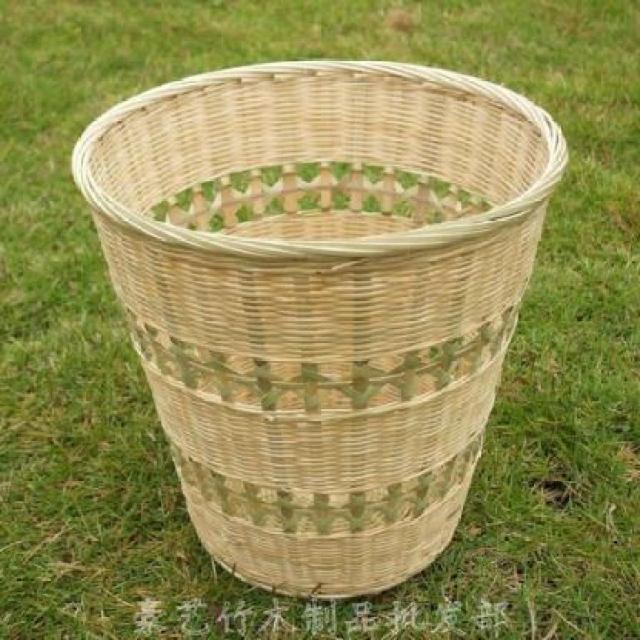dustbin: (66, 52, 574, 606)
